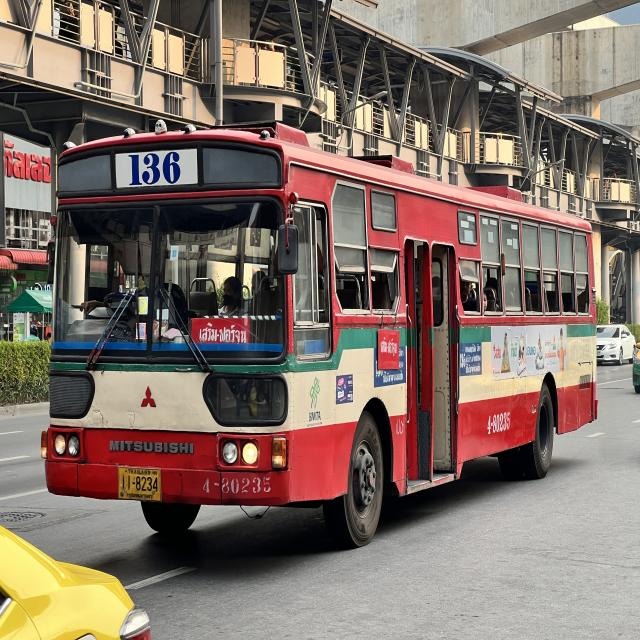BMTA-bus: (40, 108, 602, 556)
Bus-Line-Number: (115, 151, 197, 188)
Destination-Sign-Extra-Bus: (190, 316, 254, 346)
